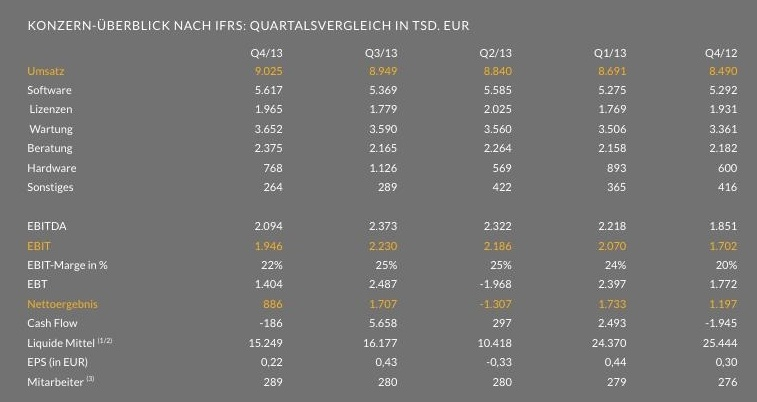table: (0, 0, 757, 402)
